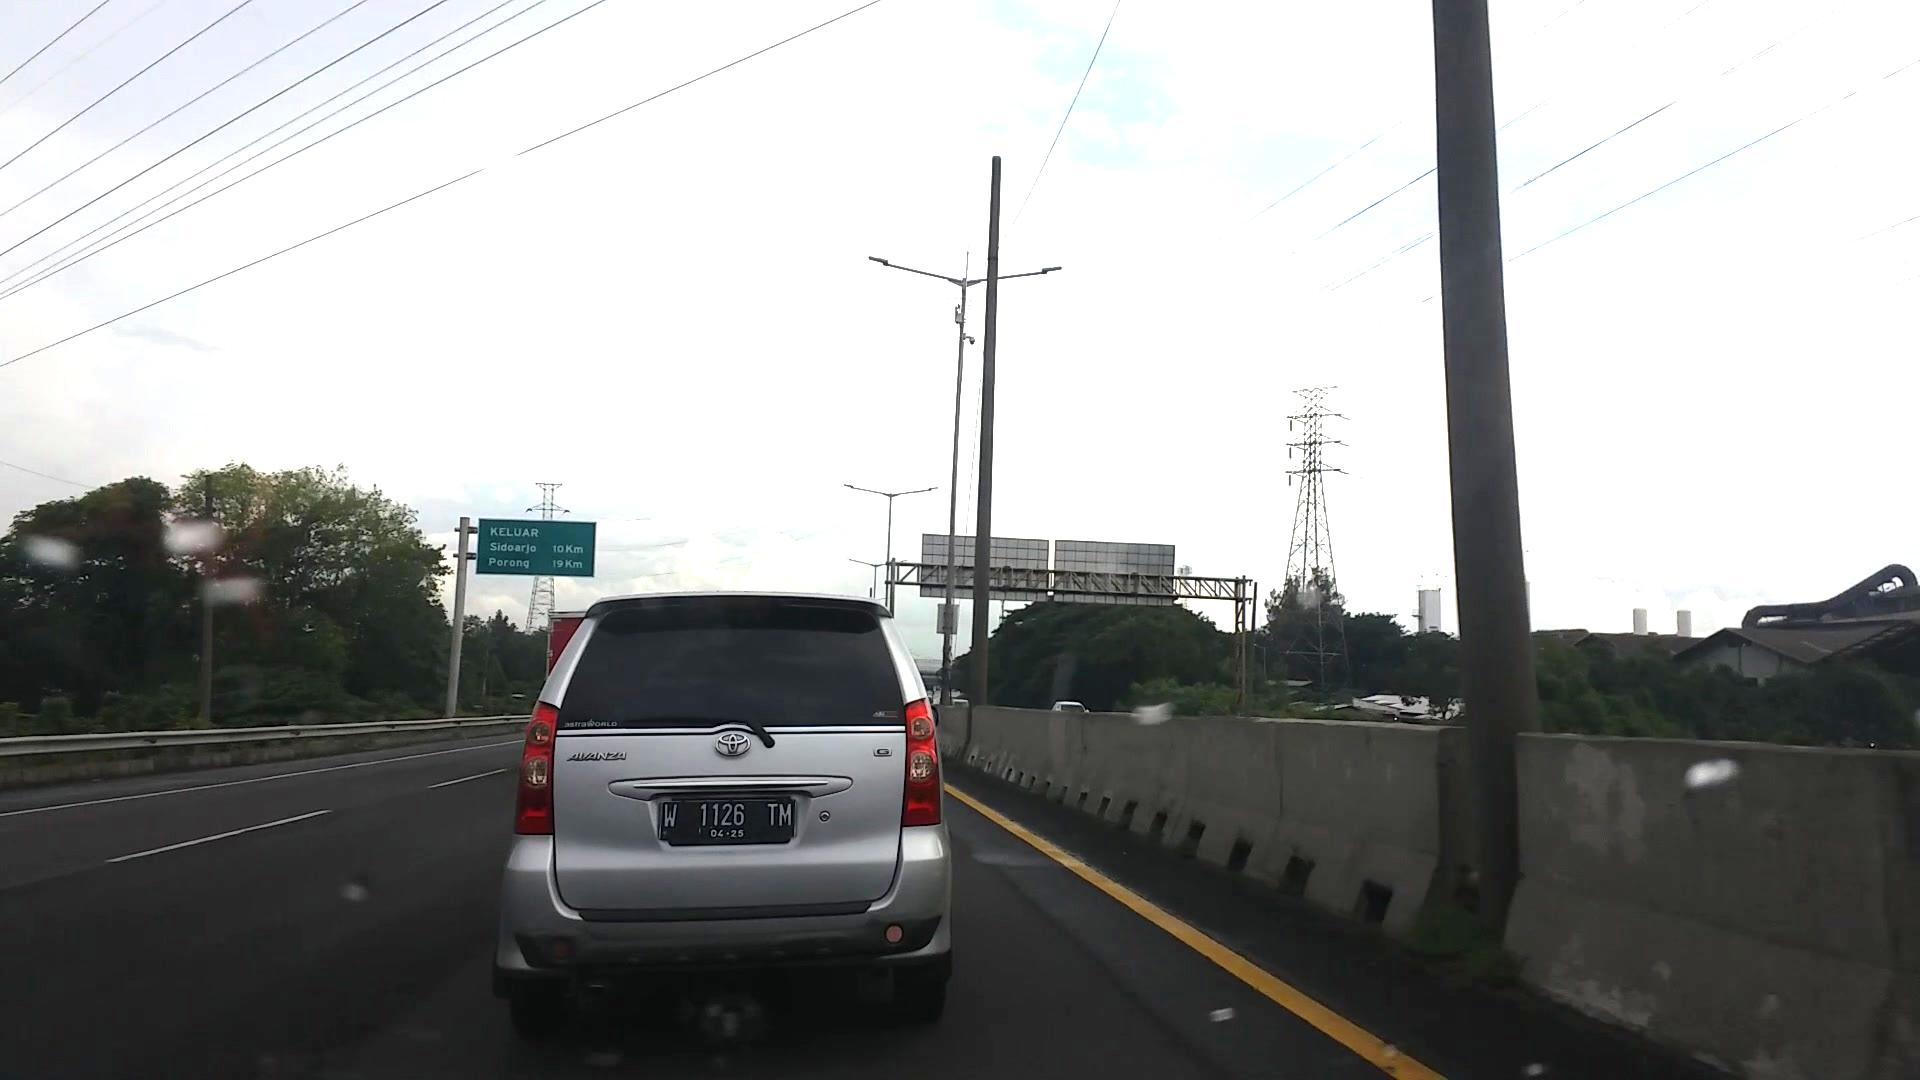plate_positive: (657, 799, 793, 844)
